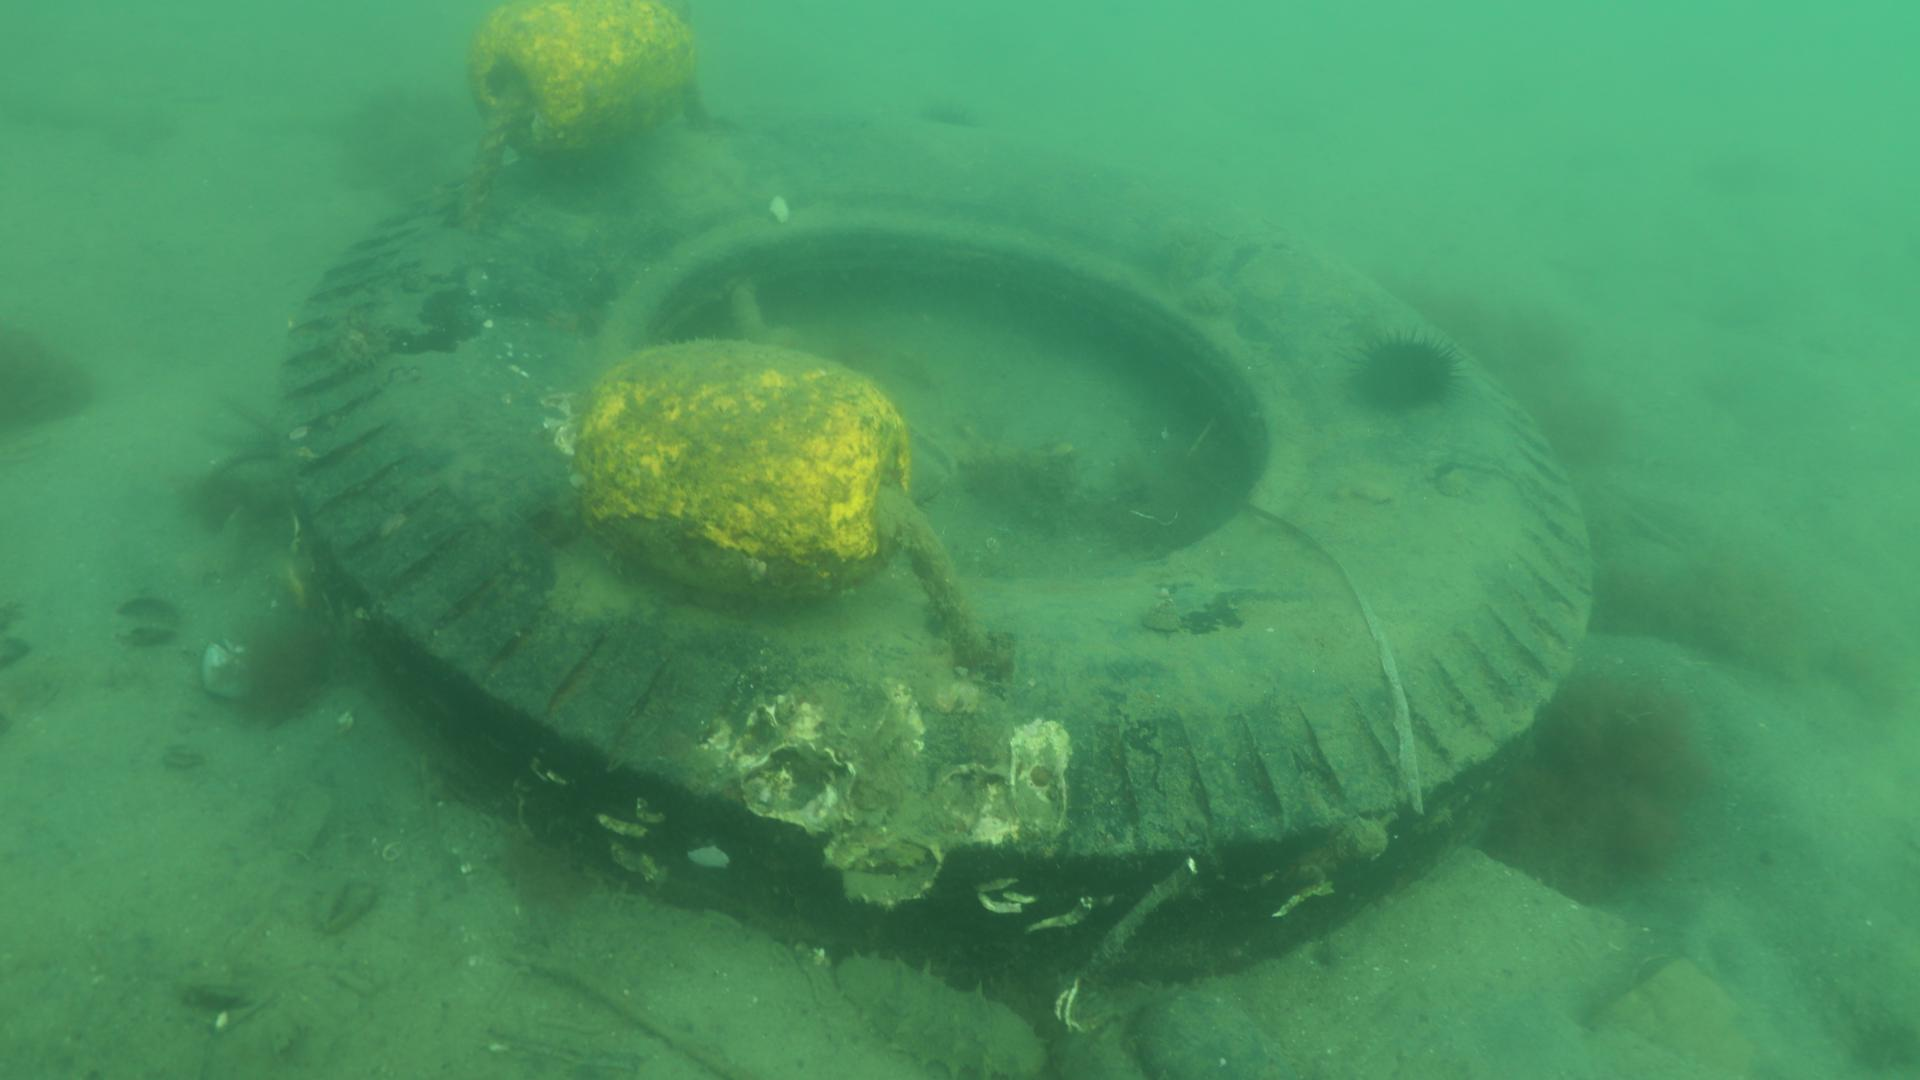tire: (280, 109, 1590, 981)
